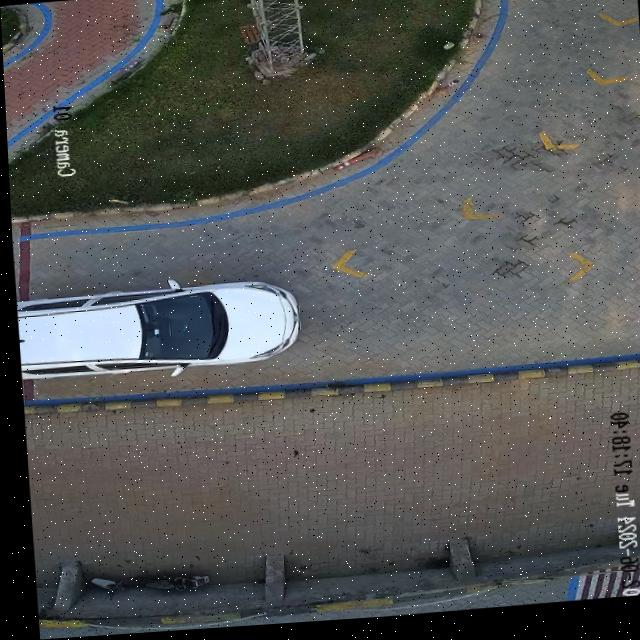car: (12, 283, 295, 379)
